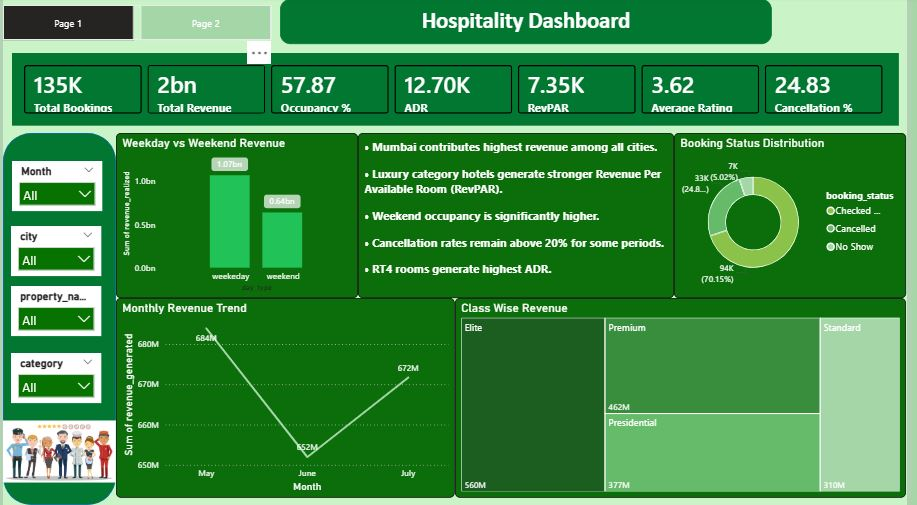

The dashboard page shown, as its layout file describes it:
{"tool":"powerbi","page":{"name":"Page 1","canvas":[1280,720],"ordinal":0},"visuals":[{"type":"cardVisual","fields":{"Data":["fact_bookings.Total Bookings","Sum(fact_bookings.revenue_realized)","fact_bookings.Occupancy %","fact_bookings.ADR","fact_bookings.RevPAR","fact_bookings.Average Rating","fact_bookings.Cancellation %"]},"box":[12.8,79.4,1257.2,103.5],"z":0},{"type":"textbox","box":[393.1,3.4,697.1,63.8],"z":1000},{"type":"shape","box":[0,192.8,160.2,527.2],"z":2000},{"type":"slicer","fields":{"Values":["dim_date.mmm yy.Variation.Date Hierarchy.Month"]},"box":[13,232.3,128.4,70.7],"z":3000},{"type":"slicer","fields":{"Values":["dim_hotels.city"]},"box":[11.5,324.6,128.4,70.7],"z":4000},{"type":"slicer","fields":{"Values":["dim_hotels.property_name"]},"box":[11.5,409.7,128.4,70.7],"z":5000},{"type":"slicer","fields":{"Values":["dim_hotels.category"]},"box":[11.5,505,128.4,70.7],"z":6000},{"type":"image","box":[0,588.2,160.2,112],"z":7000},{"type":"textbox","box":[503.1,192.8,447.9,233.9],"z":8000},{"type":"lineChart","title":"Monthly Revenue Trend","fields":{"Y":["Sum(fact_bookings.revenue_generated)"],"Category":["dim_date.mmm yy.Variation.Date Hierarchy.Month"]},"box":[160.2,426.6,480.5,283.5],"z":9000},{"type":"donutChart","title":"Booking Status Distribution","fields":{"Category":["fact_bookings.booking_status"],"Y":["fact_bookings.Total Bookings"]},"box":[951,192.8,328.8,233.9],"z":10000},{"type":"lineClusteredColumnComboChart","title":"Weekday vs Weekend Revenue ","fields":{"Category":["dim_date.day_type"],"Y":["Sum(fact_bookings.revenue_realized)"]},"box":[160.2,192.8,343,233.9],"z":11000},{"type":"treemap","title":"Class Wise Revenue","fields":{"Group":["dim_rooms.room_class"],"Values":["fact_bookings.Revenue Realized1"]},"box":[640.6,426.6,639.2,283.5],"z":12000},{"type":"pageNavigator","box":[0,11,381.6,50.3],"z":14000}]}

Visuals, with their boxes in screenshot pixels (x1, y1, x2, y2), scaled from the page's 1280x720 canvas onto the 917x505 screenshot:
cardVisual - fact_bookings.Total Bookings x Sum(fact_bookings.revenue_realized): <bbox>9, 56, 910, 128</bbox>
textbox: <bbox>282, 2, 781, 47</bbox>
shape: <bbox>0, 135, 115, 504</bbox>
slicer - dim_date.mmm yy.Variation.Date Hierarchy.Month: <bbox>9, 163, 101, 213</bbox>
slicer - dim_hotels.city: <bbox>8, 228, 100, 277</bbox>
slicer - dim_hotels.property_name: <bbox>8, 287, 100, 337</bbox>
slicer - dim_hotels.category: <bbox>8, 354, 100, 404</bbox>
image: <bbox>0, 413, 115, 491</bbox>
textbox: <bbox>360, 135, 681, 299</bbox>
"Monthly Revenue Trend" lineChart: <bbox>115, 299, 459, 498</bbox>
"Booking Status Distribution" donutChart: <bbox>681, 135, 916, 299</bbox>
"Weekday vs Weekend Revenue " lineClusteredColumnComboChart: <bbox>115, 135, 360, 299</bbox>
"Class Wise Revenue" treemap: <bbox>459, 299, 916, 498</bbox>
pageNavigator: <bbox>0, 8, 273, 43</bbox>
